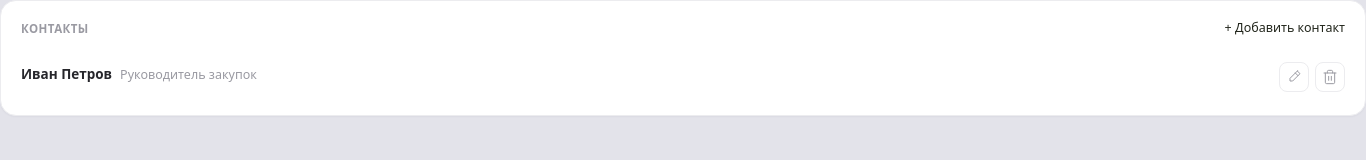
Test case: CompanyContactsCard › expands notes on click and collapses on second click
Check: the text "Любит цифры и графики" is not shown
Click the text "Иван Петров" at (67,74), box [21,64,112,84]
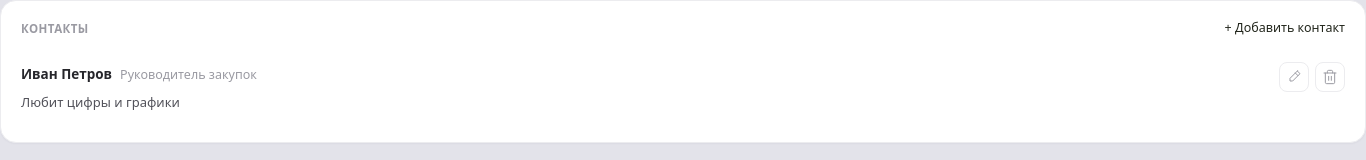
Check: the text "Любит цифры и графики" is shown, box [21,92,180,110]
Click the text "Иван Петров" at (67,74), box [21,64,112,84]
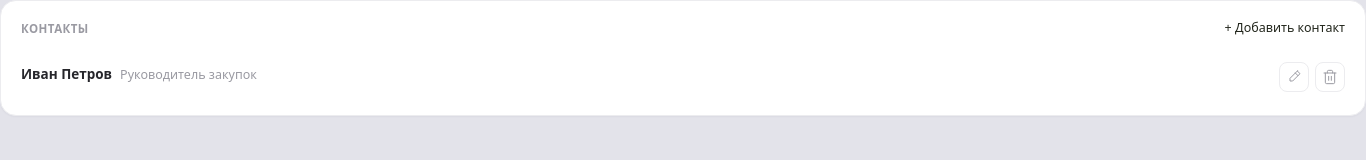
Check: the text "Любит цифры и графики" is gone
